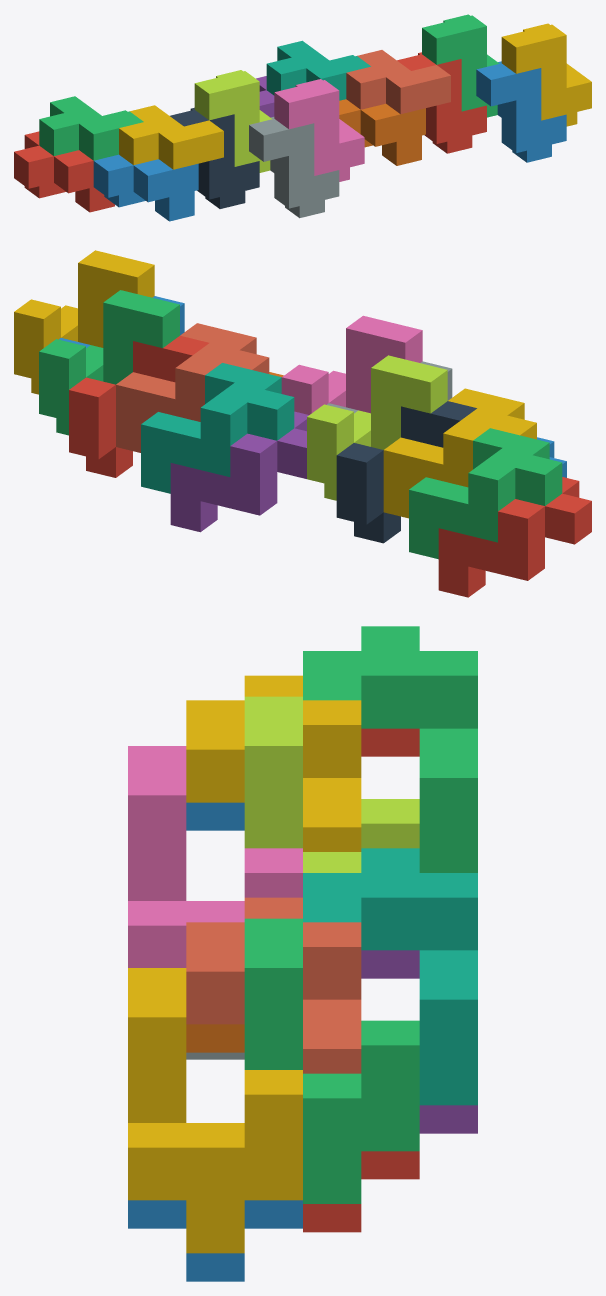
Rendered from tiling.obj.
3 renders of one model, top to bottom at view 1: azimuth 30°, elevation 25°; view 2: azimuth 150°, elevation 25°; view 3: azimuth 270°, elevation 25°, orthographic. The views are drawn at different scales.
Visible parts, largest first — view 1: copy_2_domain_2, copy_2_domain_6, copy_2_domain_8, copy_2_domain_4, copy_1_domain_2, copy_1_domain_8, copy_1_domain_4, copy_1_domain_3, copy_1_domain_1, copy_2_domain_3, copy_2_domain_7, copy_1_domain_6 (+4 smaller); view 2: copy_1_domain_7, copy_1_domain_3, copy_1_domain_1, copy_2_domain_7, copy_2_domain_3, copy_1_domain_5, copy_2_domain_8, copy_1_domain_4, copy_1_domain_8, copy_2_domain_4, copy_2_domain_1, copy_2_domain_5; view 3: copy_2_domain_8, copy_2_domain_7, copy_1_domain_7, copy_1_domain_3, copy_2_domain_4, copy_1_domain_4, copy_1_domain_8, copy_2_domain_3, copy_2_domain_6, copy_1_domain_5, copy_2_domain_5, copy_1_domain_1 (+2 smaller).
Boxes of the visible parts, bbox=[...] form: copy_2_domain_2: bbox=[249, 117, 339, 218]; copy_2_domain_6: bbox=[476, 61, 566, 162]; copy_2_domain_8: bbox=[501, 23, 591, 126]; copy_2_domain_4: bbox=[274, 79, 364, 181]; copy_1_domain_2: bbox=[93, 154, 198, 221]; copy_1_domain_8: bbox=[346, 50, 450, 114]; copy_1_domain_4: bbox=[119, 105, 223, 169]; copy_1_domain_3: bbox=[39, 96, 143, 160]; copy_1_domain_1: bbox=[14, 131, 114, 212]; copy_2_domain_3: bbox=[194, 70, 272, 172]; copy_2_domain_7: bbox=[422, 14, 499, 117]; copy_1_domain_6: bbox=[339, 99, 425, 165]; copy_1_domain_7: bbox=[141, 363, 294, 493]; copy_1_domain_3: bbox=[409, 428, 562, 559]; copy_1_domain_1: bbox=[438, 477, 591, 597]; copy_2_domain_7: bbox=[39, 290, 179, 435]; copy_2_domain_3: bbox=[307, 355, 447, 500]; copy_1_domain_5: bbox=[170, 411, 308, 532]; copy_2_domain_8: bbox=[14, 250, 154, 394]; copy_1_domain_4: bbox=[383, 388, 536, 518]; copy_1_domain_8: bbox=[116, 323, 269, 452]; copy_2_domain_4: bbox=[281, 315, 422, 414]; copy_2_domain_1: bbox=[336, 401, 476, 543]; copy_2_domain_5: bbox=[69, 335, 208, 477]; copy_2_domain_8: bbox=[128, 968, 302, 1253]; copy_2_domain_7: bbox=[244, 918, 419, 1203]; copy_1_domain_7: bbox=[303, 848, 477, 1105]; copy_1_domain_3: bbox=[303, 626, 477, 872]; copy_2_domain_4: bbox=[128, 746, 302, 967]; copy_1_domain_4: bbox=[186, 675, 361, 851]; copy_1_domain_8: bbox=[186, 897, 361, 1073]; copy_2_domain_3: bbox=[244, 696, 419, 872]; copy_2_domain_6: bbox=[128, 1200, 302, 1281]; copy_1_domain_5: bbox=[361, 950, 477, 1133]; copy_2_domain_5: bbox=[303, 1151, 419, 1232]; copy_1_domain_1: bbox=[361, 728, 419, 756].
Bounding box in the file's own units: 20 × 5 × 6.
